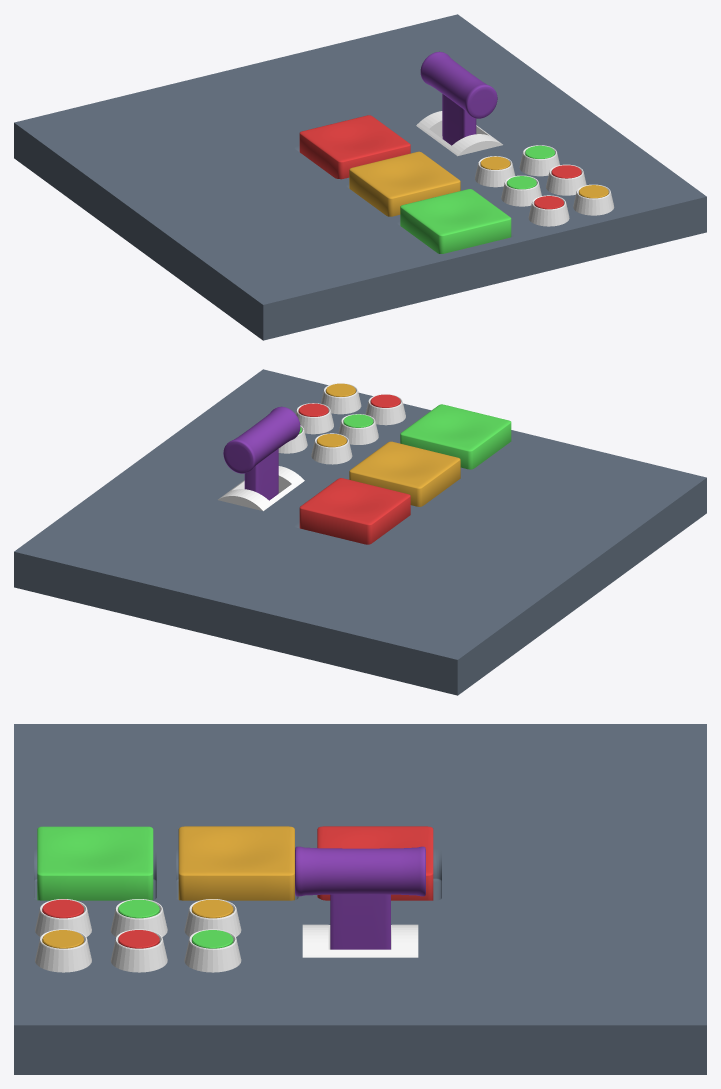
The model's file is control.fbx.
3 renders of one model, top to bottom at view 1: azimuth 30°, elevation 25°; view 2: azimuth 150°, elevation 25°; view 3: azimuth 270°, elevation 25°, orthographic. The views are drawn at different scales.
Parts seen in each view (by area): view 1: Cube, Cube.001, Cube.003, Cube.002, Cylinder, Cylinder.001, Cylinder.009, Cylinder.003, Cylinder.011, Cylinder.005, Cylinder.013, Cylinder.007; view 2: Cube, Cube.002, Cube.001, Cube.003, Cylinder, Cylinder.001, Cylinder.007, Cylinder.009, Cylinder.003, Cylinder.005, Cylinder.011; view 3: Cube, Cylinder, Cube.003, Cube.001, Cube.002, Cylinder.001, Cylinder.011, Cylinder.013, Cylinder.009, Cylinder.005, Cylinder.007, Cylinder.003 (+6 smaller).
Part boxes in pixels (left/top/right/bottom): Cube: left=14, top=14, right=706, bottom=340; Cube.001: left=400, top=189, right=511, bottom=253; Cube.003: left=349, top=151, right=460, bottom=216; Cube.002: left=299, top=115, right=410, bottom=179; Cylinder: left=420, top=51, right=497, bottom=145; Cylinder.001: left=416, top=111, right=502, bottom=156; Cylinder.009: left=573, top=184, right=614, bottom=215; Cylinder.003: left=528, top=195, right=569, bottom=226; Cylinder.011: left=546, top=164, right=586, bottom=195; Cylinder.005: left=501, top=175, right=541, bottom=206; Cylinder.013: left=519, top=145, right=559, bottom=176; Cylinder.007: left=475, top=156, right=515, bottom=187; Cube: left=14, top=369, right=706, bottom=695; Cube.002: left=299, top=478, right=410, bottom=544; Cube.001: left=400, top=404, right=511, bottom=469; Cube.003: left=349, top=441, right=460, bottom=506; Cylinder: left=223, top=406, right=300, bottom=500; Cylinder.001: left=218, top=466, right=304, bottom=511; Cylinder.007: left=311, top=433, right=352, bottom=464; Cylinder.009: left=320, top=383, right=361, bottom=414; Cylinder.003: left=365, top=394, right=405, bottom=425; Cylinder.005: left=338, top=414, right=378, bottom=444; Cylinder.011: left=295, top=403, right=333, bottom=434; Cube: left=14, top=724, right=706, bottom=1074; Cylinder: left=295, top=846, right=425, bottom=949; Cube.003: left=178, top=826, right=294, bottom=900; Cube.001: left=37, top=826, right=153, bottom=900; Cube.002: left=317, top=826, right=433, bottom=900; Cylinder.001: left=302, top=924, right=418, bottom=957; Cylinder.011: left=110, top=929, right=167, bottom=972; Cylinder.013: left=184, top=929, right=241, bottom=972; Cylinder.009: left=35, top=929, right=91, bottom=972; Cylinder.005: left=110, top=899, right=167, bottom=936; Cylinder.007: left=184, top=899, right=241, bottom=936; Cylinder.003: left=35, top=899, right=91, bottom=936.
Size of the model in its own units: 1226 by 270 by 1192.
